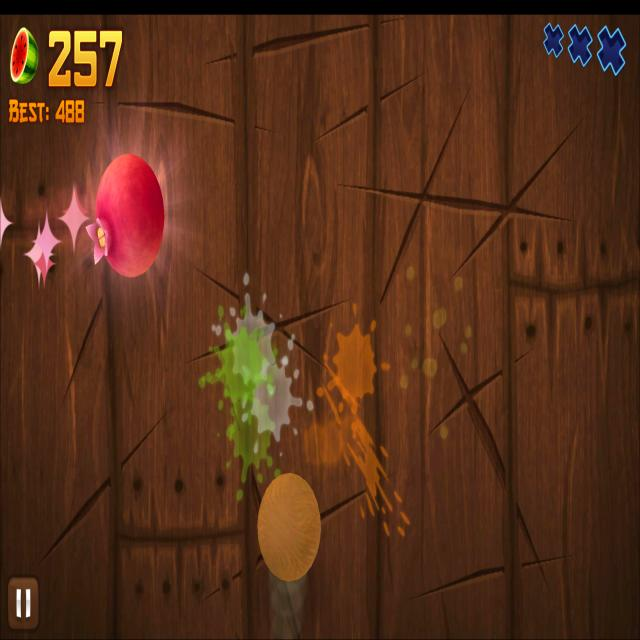fruit: (93, 153, 166, 278), (256, 470, 322, 583)
